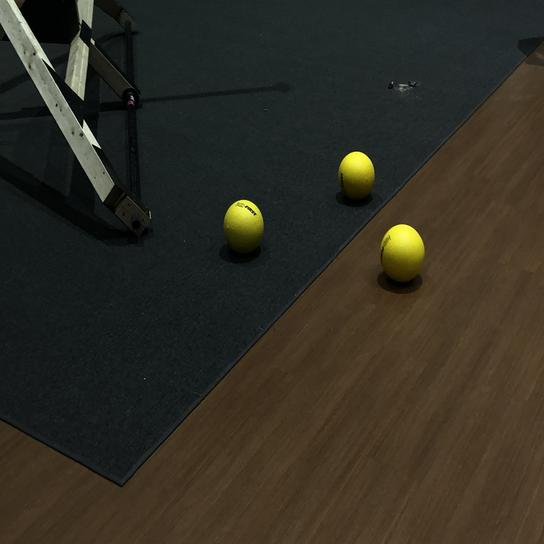ball: (377, 222, 428, 286), (221, 197, 265, 258), (337, 148, 376, 208)
